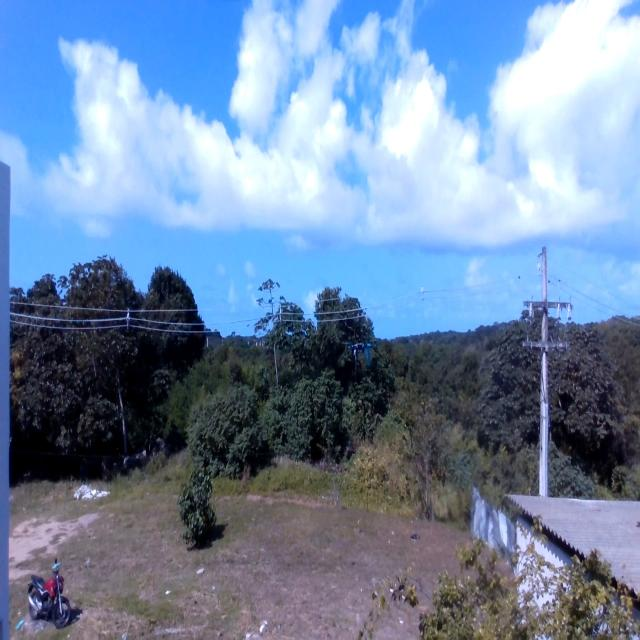-uav-: (342, 333, 380, 384)
